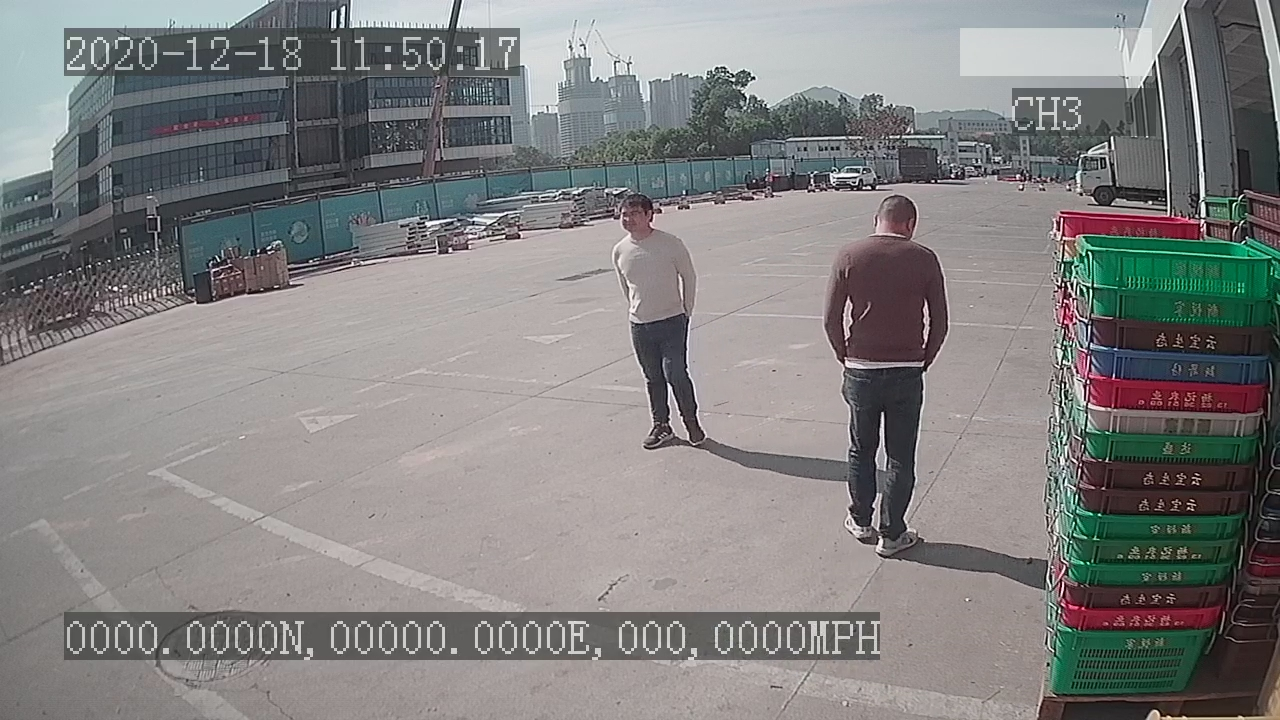person: (818, 192, 956, 563), (604, 192, 715, 454)
